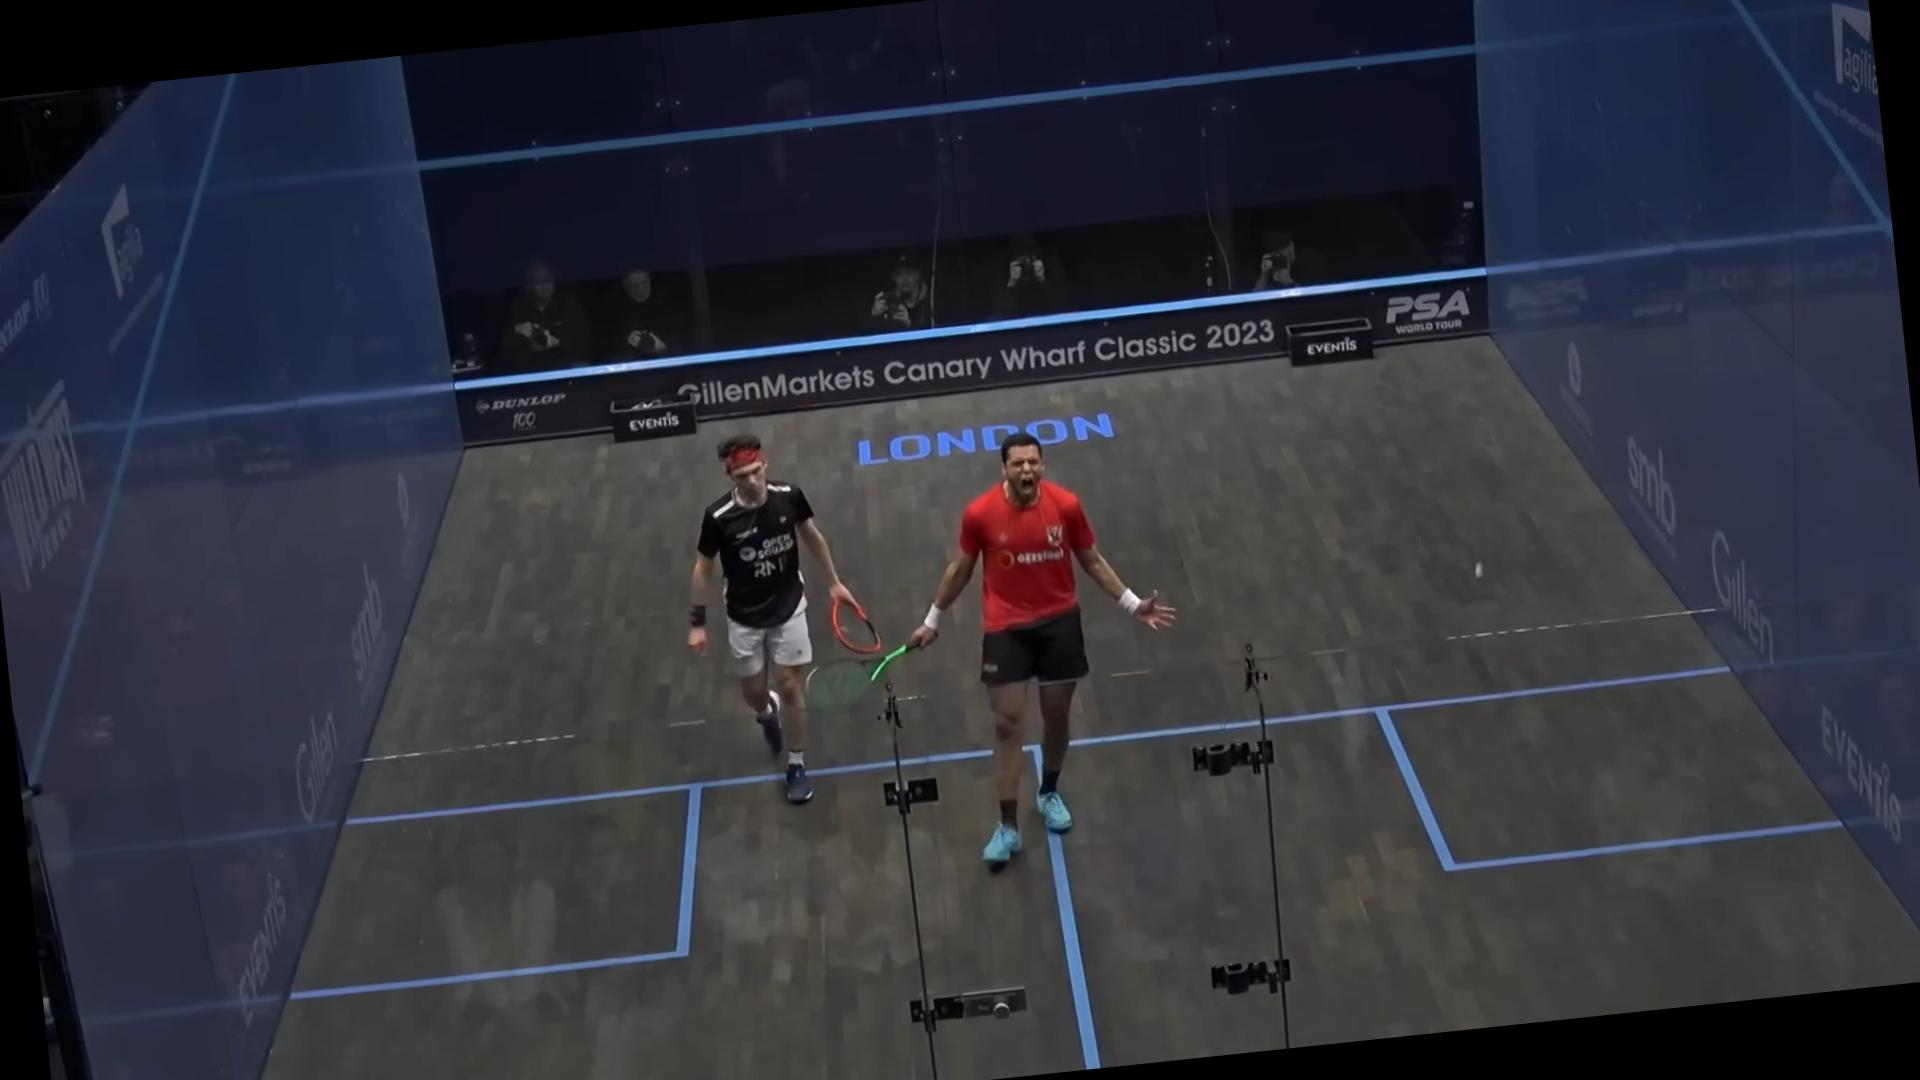Racket: (782, 650, 935, 741), (815, 560, 890, 651)
